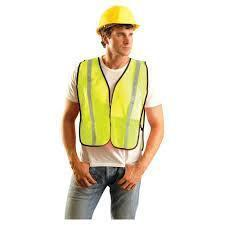helmet: (97, 6, 141, 34)
